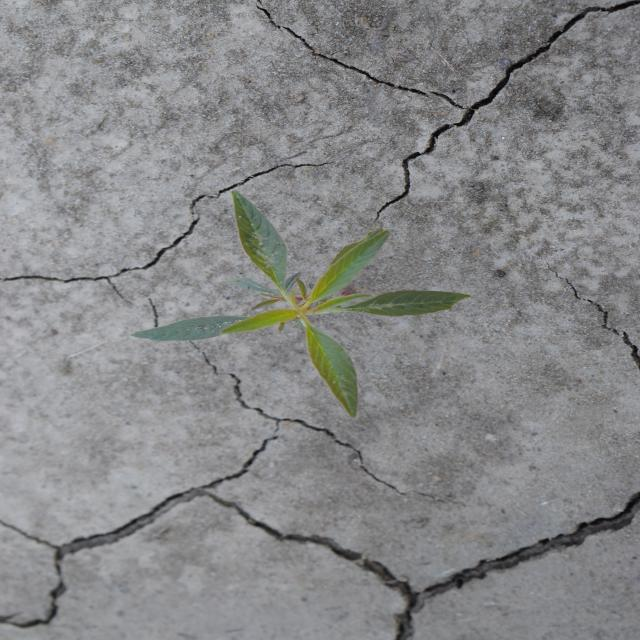Waterhemp: (126, 188, 477, 420)
